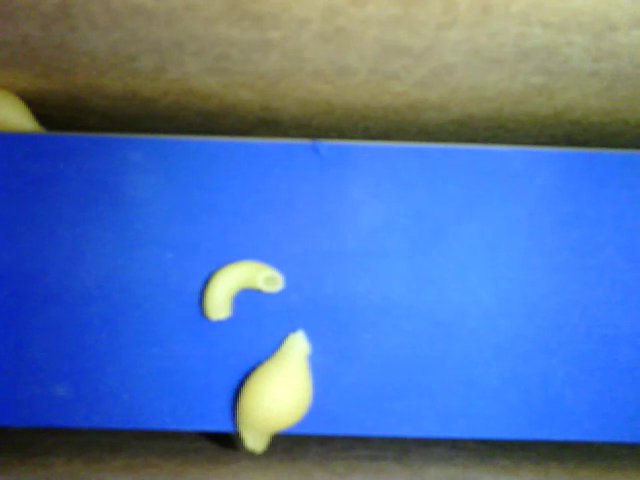elbow: (201, 256, 283, 321)
shell: (235, 327, 314, 455), (1, 91, 48, 132)
